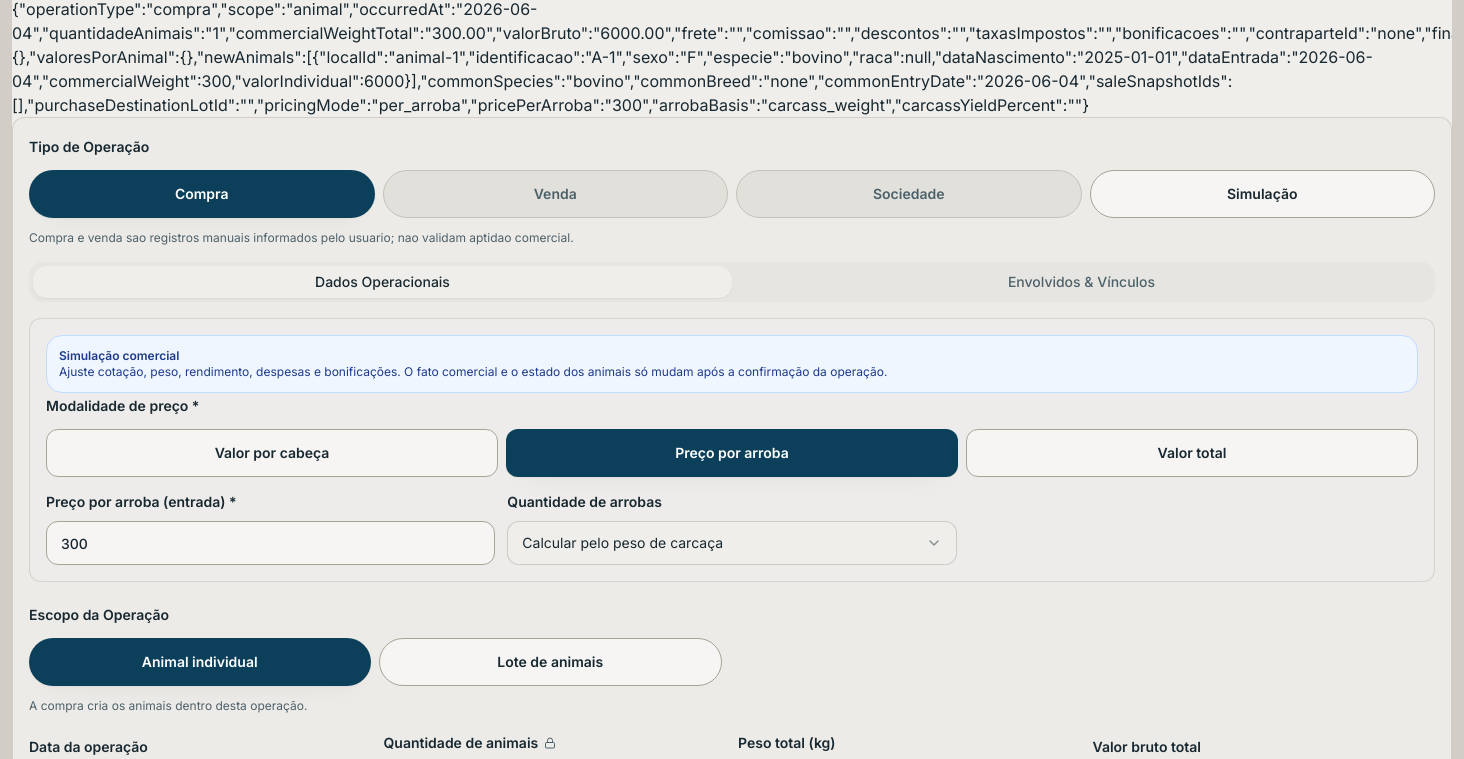
RegistrarComercialSection › limpa dados incompatíveis ao trocar de preço por arroba para por cabeça
Click the button "Valor por cabeça".
click(272, 453)  # box [46,429,498,477]
(page scrolled)
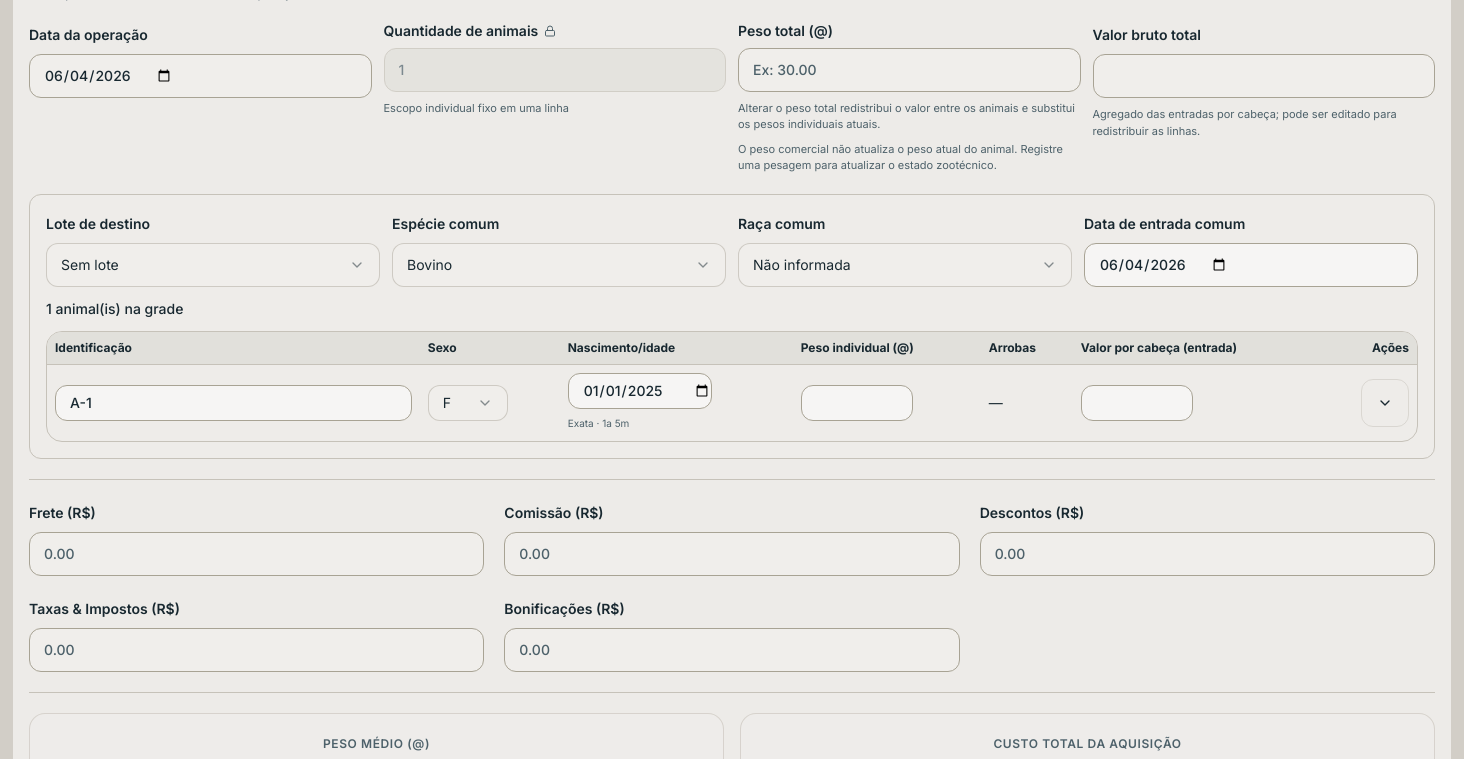
expect the number field named "Valor Bruto (R$)" is not empty: met, box [1092,54,1435,98]
expect the number field named "Valor animal 1" is not empty: met, box [1081,384,1193,420]
expect the number field named "Peso animal 1" is not empty: met, box [801,384,913,420]
